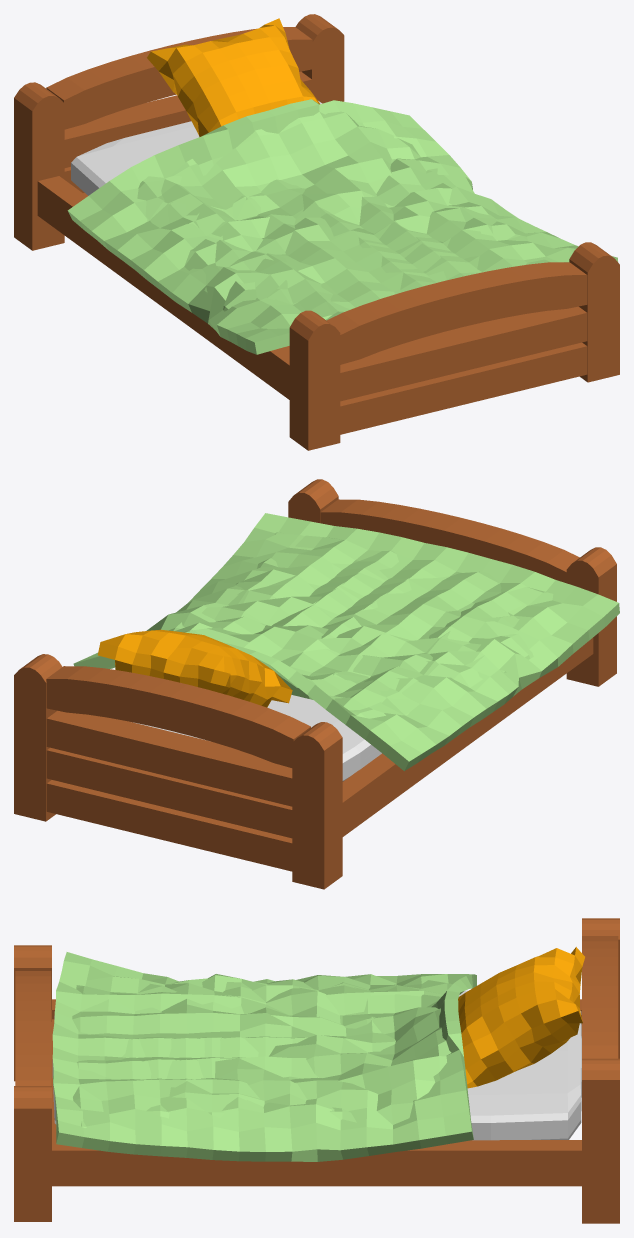
Rendered from bed_low.fbx.
The picture shows the model from 3 angles, top to bottom: view 1: azimuth 30°, elevation 25°; view 2: azimuth 150°, elevation 25°; view 3: azimuth 270°, elevation 25°; orthographic projection. The views are drawn at different scales.
Parts seen in each view (by area): view 1: Plane.002, Cube.006, Cube.001, Cube.002; view 2: Cube.006, Plane.002, Cube.001, Cube.002; view 3: Plane.002, Cube.006, Cube.001, Cube.002.
Part boxes in pixels (x1,y1,x2,y2): Plane.002: [67, 99, 618, 354]; Cube.006: [14, 14, 619, 450]; Cube.001: [147, 18, 319, 136]; Cube.002: [71, 101, 322, 195]; Cube.006: [14, 479, 616, 889]; Plane.002: [73, 513, 619, 771]; Cube.001: [98, 629, 292, 707]; Cube.002: [133, 695, 381, 781]; Plane.002: [52, 952, 476, 1161]; Cube.006: [14, 918, 619, 1223]; Cube.001: [458, 947, 584, 1088]; Cube.002: [52, 990, 581, 1140].
Size of the model in its own units: 570 by 274 by 808.
